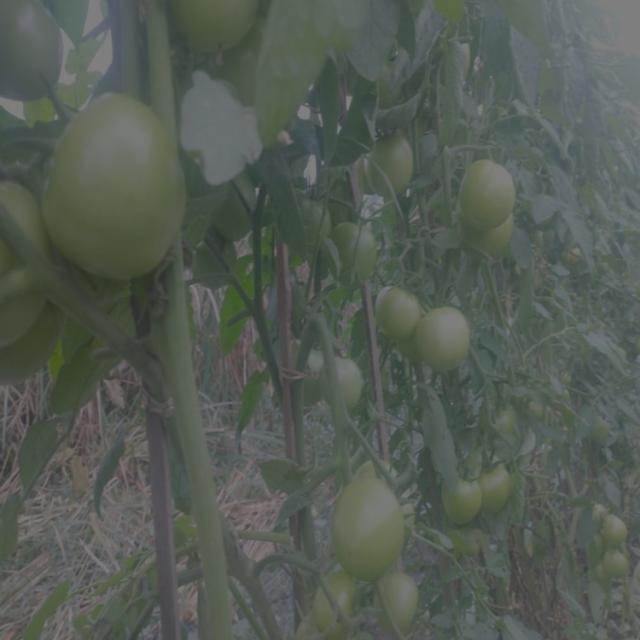tomato: (41, 95, 191, 281), (330, 478, 409, 584), (195, 176, 256, 290), (1, 182, 40, 352), (3, 5, 66, 88), (471, 161, 522, 256), (302, 345, 363, 413), (180, 3, 256, 57), (441, 465, 513, 522), (368, 125, 419, 200), (586, 509, 635, 586), (425, 303, 474, 376), (289, 188, 331, 264), (311, 590, 362, 640), (342, 216, 379, 280), (379, 285, 419, 343), (381, 590, 422, 637), (381, 59, 411, 112), (490, 401, 520, 436), (589, 416, 613, 450), (561, 239, 586, 270), (530, 399, 544, 423)
